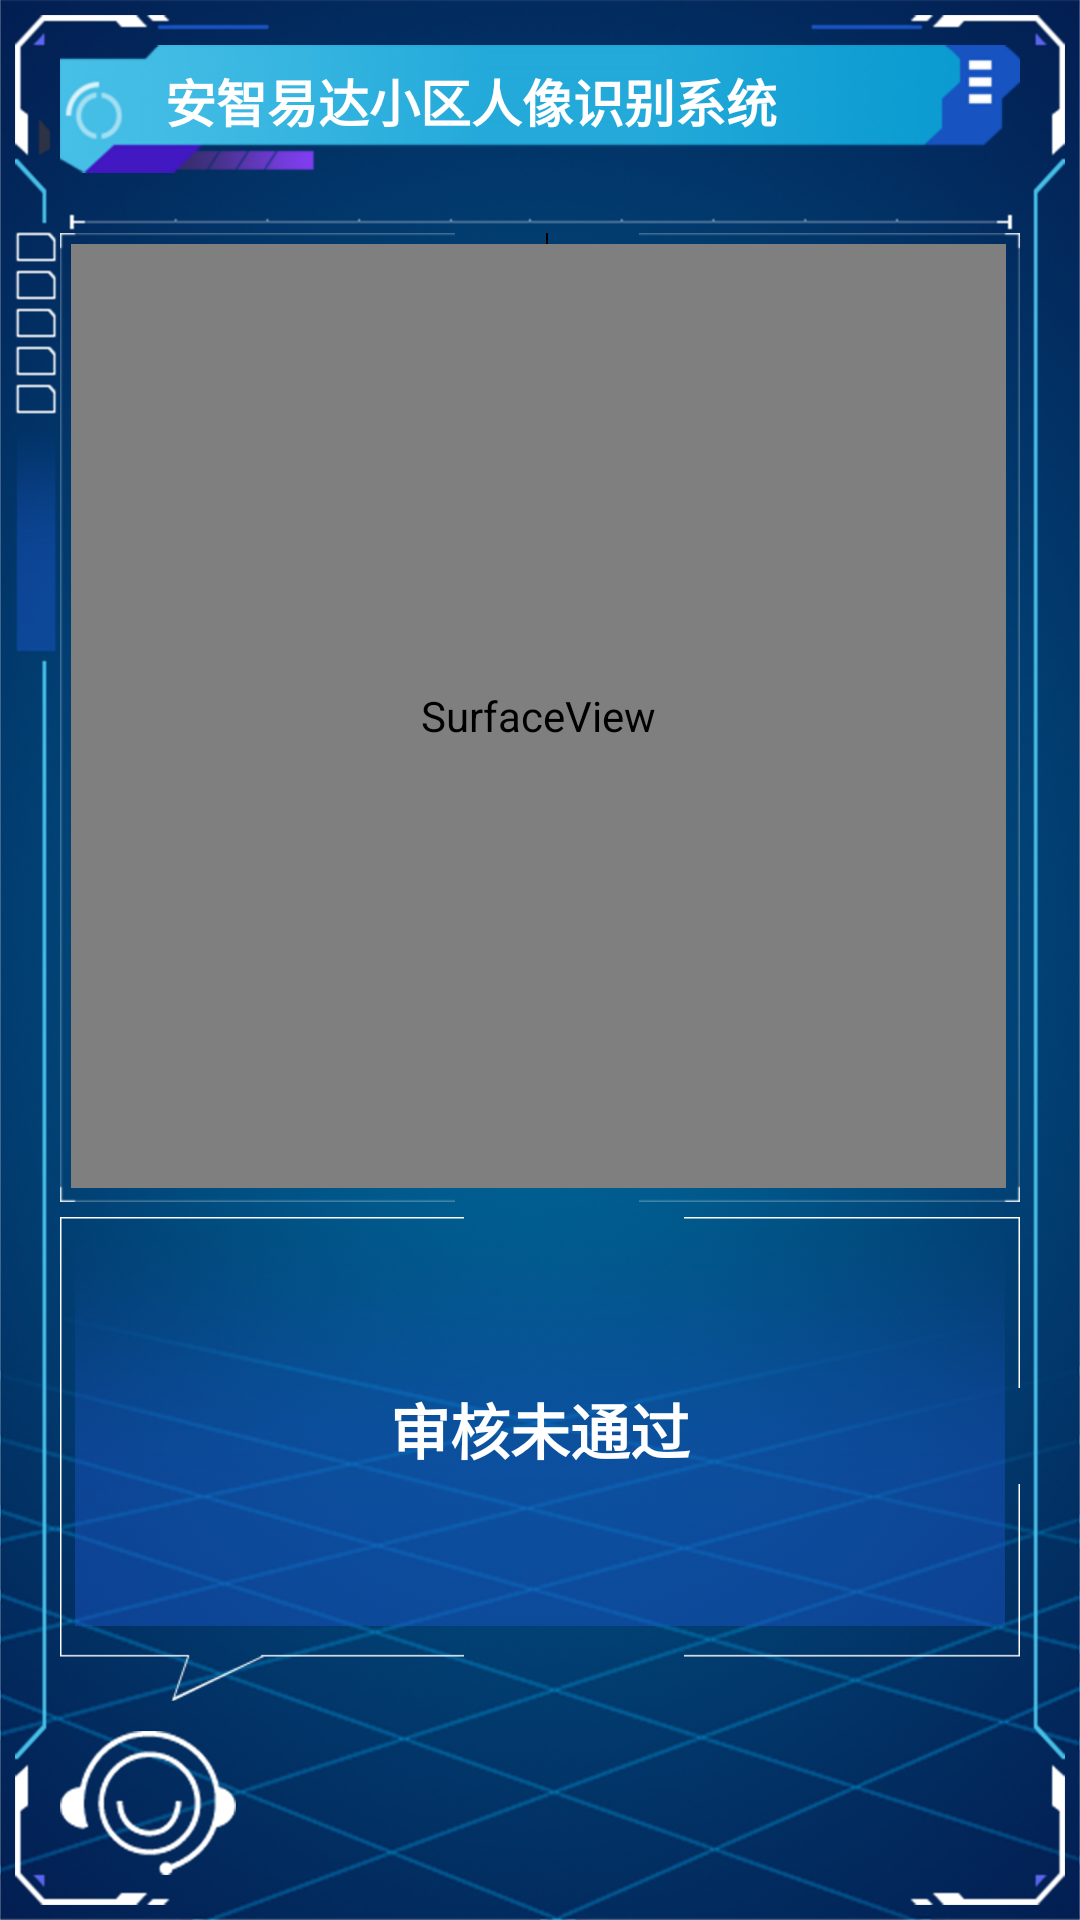

Named icons in this screenshot (1080px×1920px) and their centers, (x=x, y=y):
service: (x=148, y=1803)
